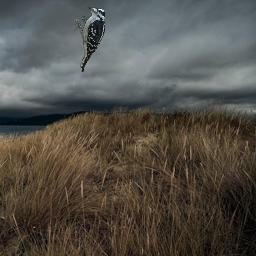Woodpecker: (74, 6, 109, 72)
